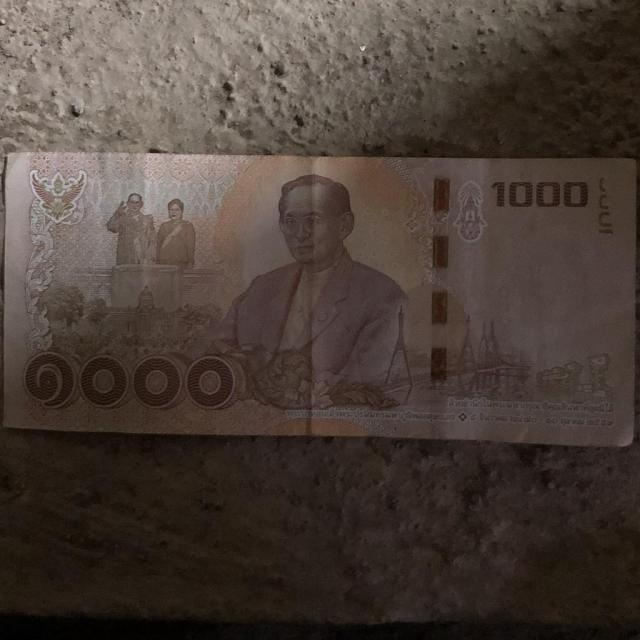THAI1000: (4, 152, 636, 446)
